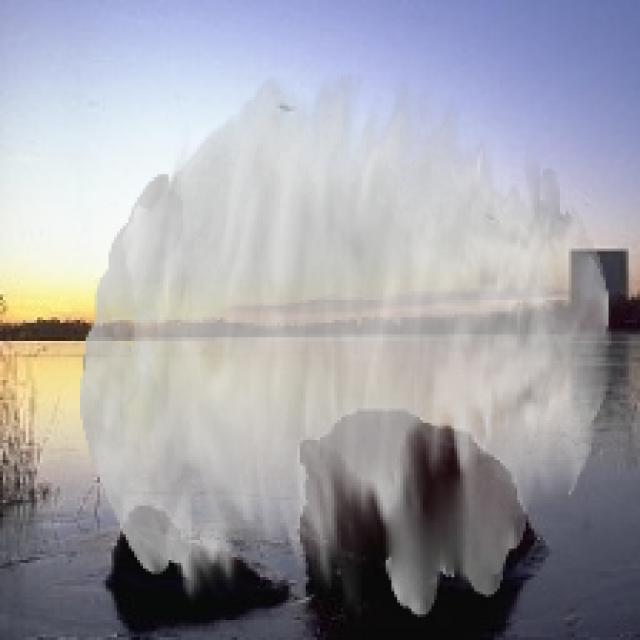smoke: (80, 74, 611, 617)
